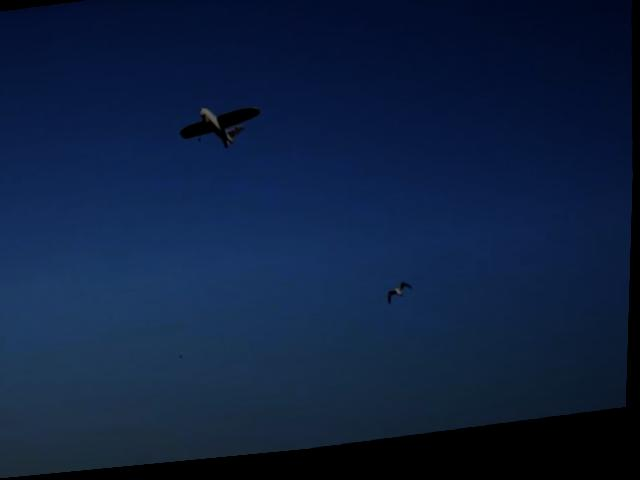iha: (170, 97, 261, 162)
